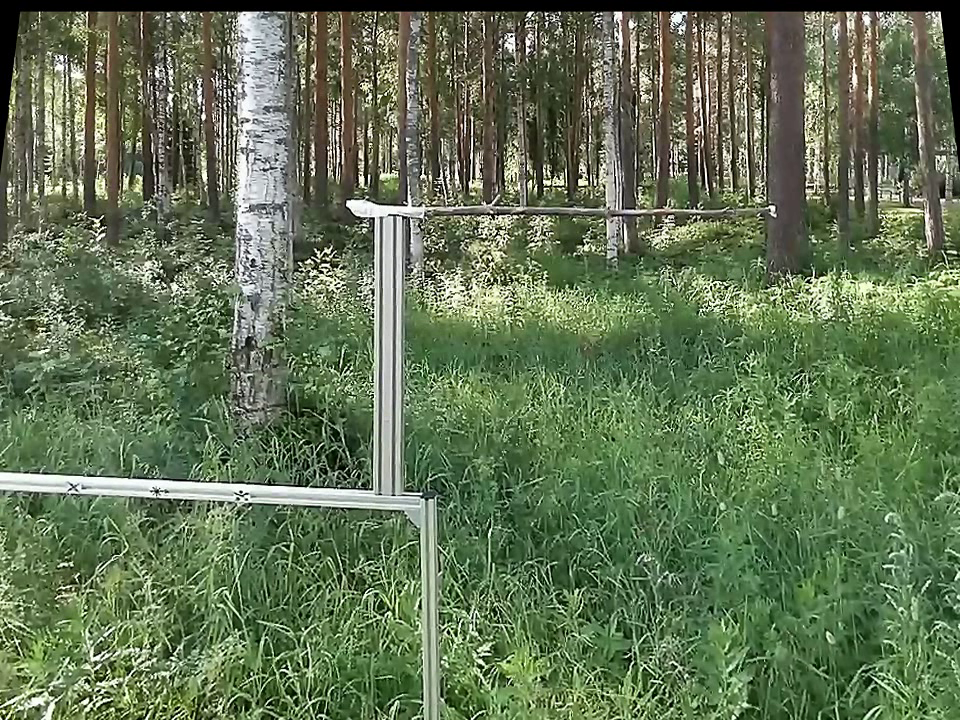aluminum_frame: (1, 467, 419, 520), (367, 218, 408, 495), (412, 483, 444, 718)
branch: (432, 190, 761, 228)
